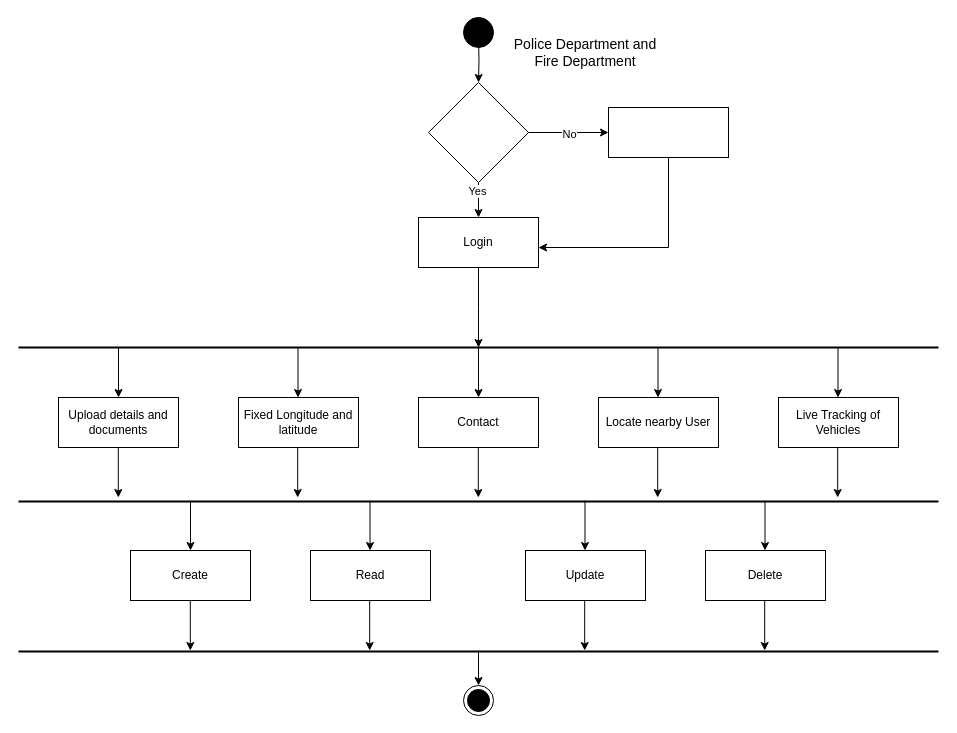
The diagram is 957 pixels wide and 733 high, and some of its shapes have lost their labels. Here are the shapes that lost their labels. From the top down, the centre of each, then its label:
At point 478,132: "Registered".
At point 668,132: "Signup".
